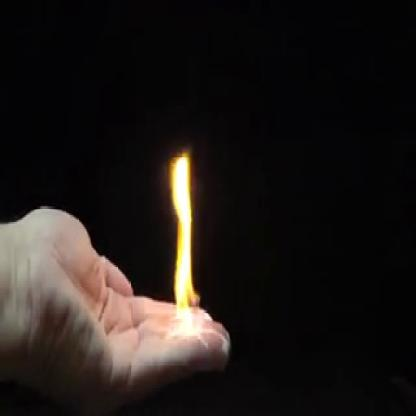fire: (163, 148, 204, 336)
